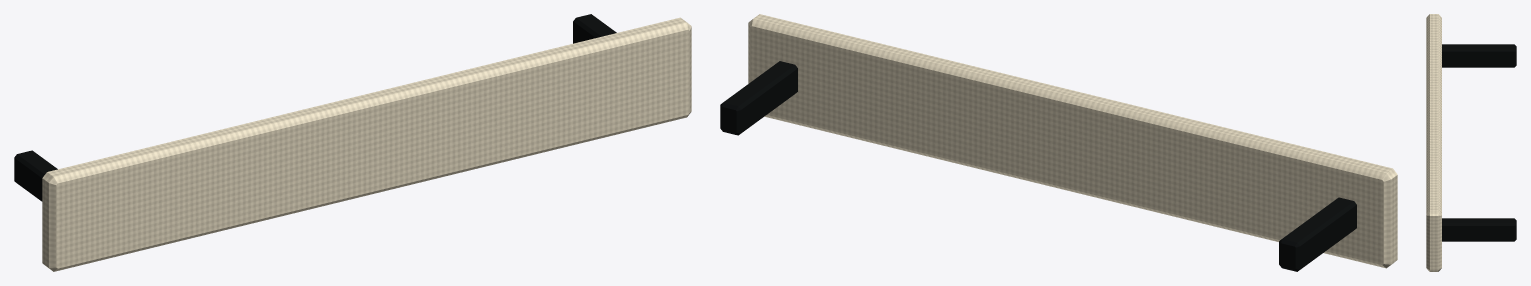
The model's file is picnic_bench_259.obj.
3 renders of one model, left to right at view 1: azimuth 30°, elevation 25°; view 2: azimuth 150°, elevation 25°; view 3: azimuth 270°, elevation 25°, orthographic. The views are drawn at different scales.
Visible parts, largest first — view 1: picnic_bench_259_linen, picnic_bench_259_frame; view 2: picnic_bench_259_linen, picnic_bench_259_frame; view 3: picnic_bench_259_linen, picnic_bench_259_frame.
Boxes of the visible parts, box(x1,y1,x2,y2) form: picnic_bench_259_linen: box(42, 17, 691, 271); picnic_bench_259_frame: box(14, 14, 616, 201); picnic_bench_259_linen: box(748, 14, 1397, 268); picnic_bench_259_frame: box(720, 61, 1356, 271); picnic_bench_259_linen: box(1426, 14, 1441, 271); picnic_bench_259_frame: box(1442, 44, 1516, 241).
Size of the model in its own units: 92 by 13 by 17.5.
2 materials, 2 textured.
